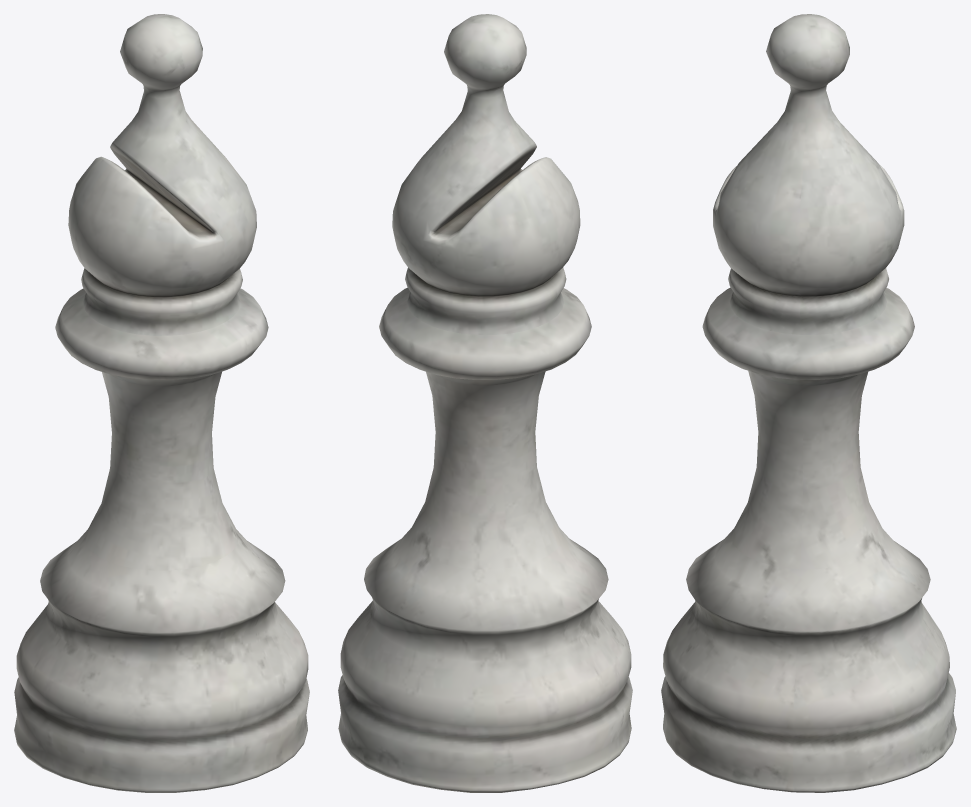
The picture shows the model from 3 angles, left to right: view 1: azimuth 30°, elevation 25°; view 2: azimuth 150°, elevation 25°; view 3: azimuth 270°, elevation 25°; orthographic projection.
Visible parts, largest first — view 1: piece_bishop_white_01; view 2: piece_bishop_white_01; view 3: piece_bishop_white_01.
Part boxes in pixels (<box>): piece_bishop_white_01: <box>14,14,309,792</box>; piece_bishop_white_01: <box>338,14,632,792</box>; piece_bishop_white_01: <box>661,14,956,792</box>.
Size of the model in its own units: 0.0322 by 0.0858 by 0.0322.
1 material, 1 textured.
